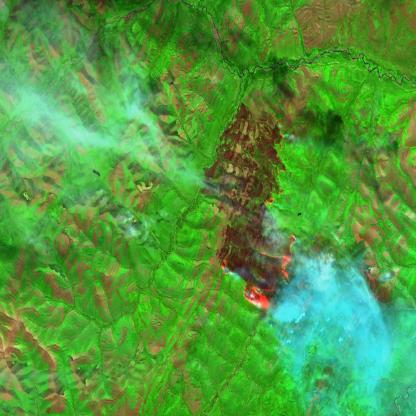fire: (217, 114, 300, 313)
